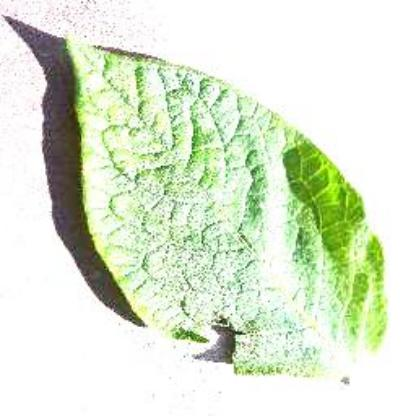Healthy-plant: (59, 30, 393, 392)
